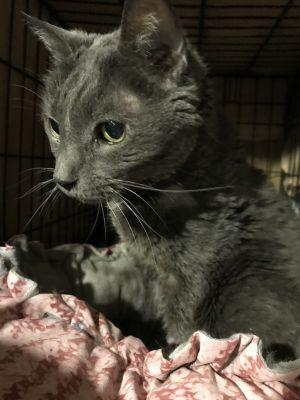rblue: (13, 1, 216, 218)
